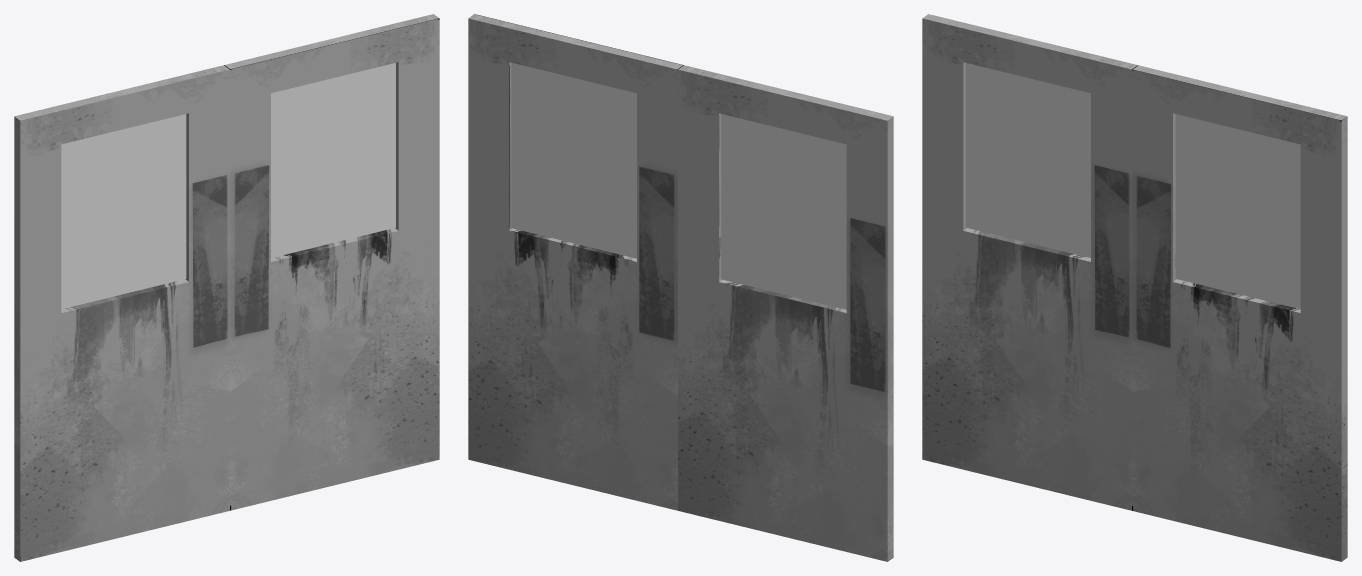
File: DoubleDoorWindow_Asset.fbx
3 views of the same model, side by side, from view 1: azimuth 30°, elevation 25°; view 2: azimuth 150°, elevation 25°; view 3: azimuth 330°, elevation 25° (orthographic).
Parts seen in each view (by area): view 1: DoubleDoor_WindowL, DoubleDoor_WindowR; view 2: DoubleDoor_WindowL, DoubleDoor_WindowR; view 3: DoubleDoor_WindowR, DoubleDoor_WindowL.
Part boxes in pixels (x1=…): DoubleDoor_WindowL: x1=14, y1=65, x2=229, y2=561; DoubleDoor_WindowR: x1=224, y1=14, x2=439, y2=510; DoubleDoor_WindowL: x1=678, y1=65, x2=893, y2=561; DoubleDoor_WindowR: x1=468, y1=14, x2=683, y2=510; DoubleDoor_WindowR: x1=1132, y1=65, x2=1347, y2=561; DoubleDoor_WindowL: x1=922, y1=14, x2=1137, y2=510.
Bounding box in the file's own units: 199 × 5 × 200.
2 materials, 1 textured.
